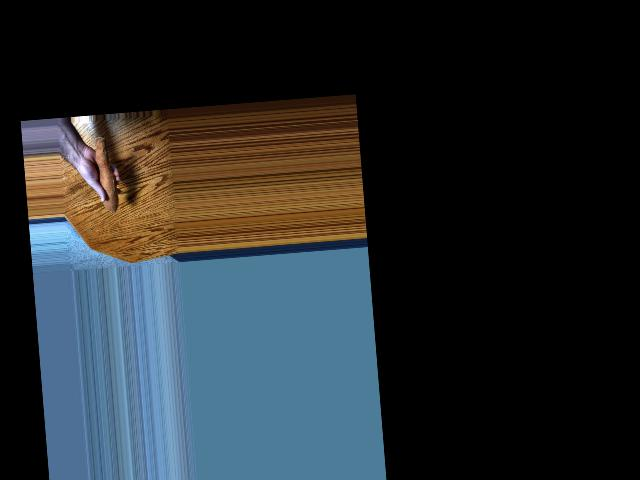sweet_potato: (89, 134, 119, 217)
